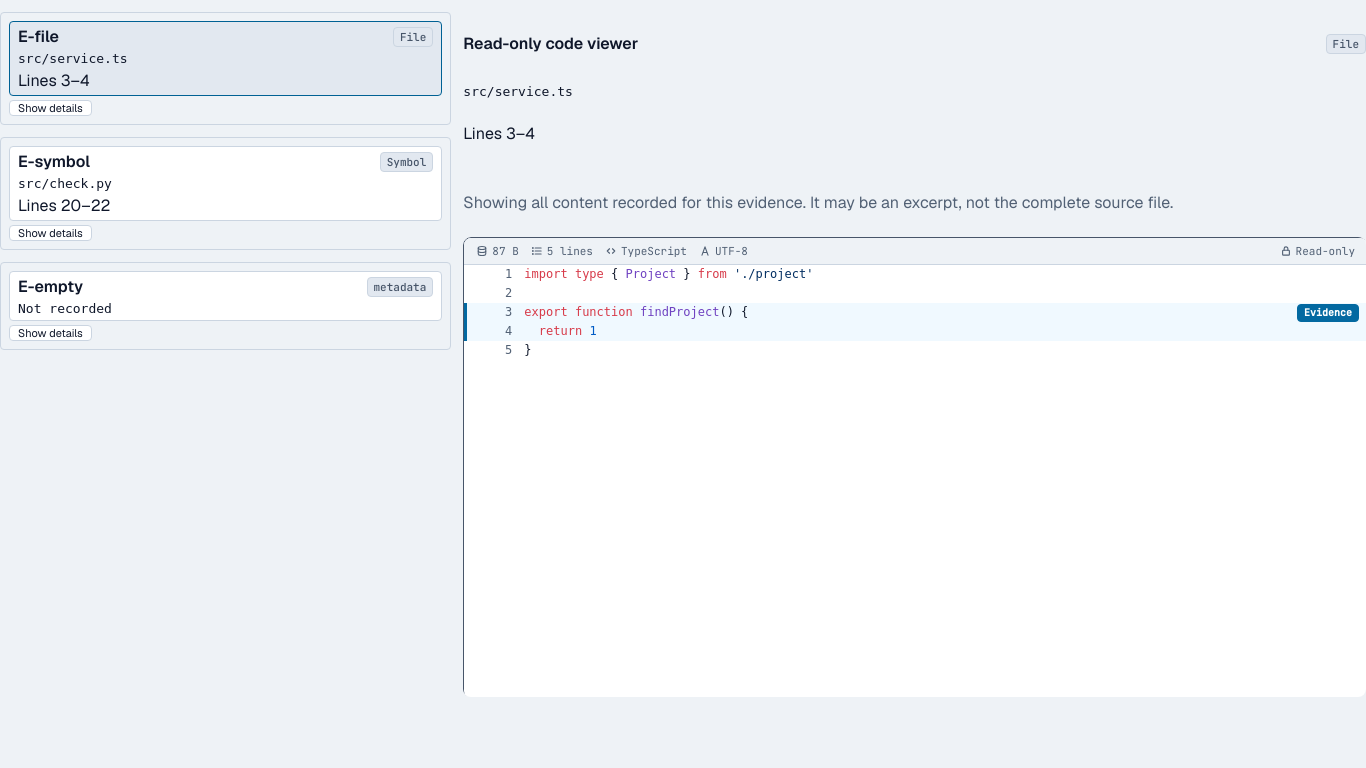
it: does not retain the previous evidence content when selecting a record without content
Click the button "E-empty metadata Not recorded" at (51, 286), box [9,271,442,321]
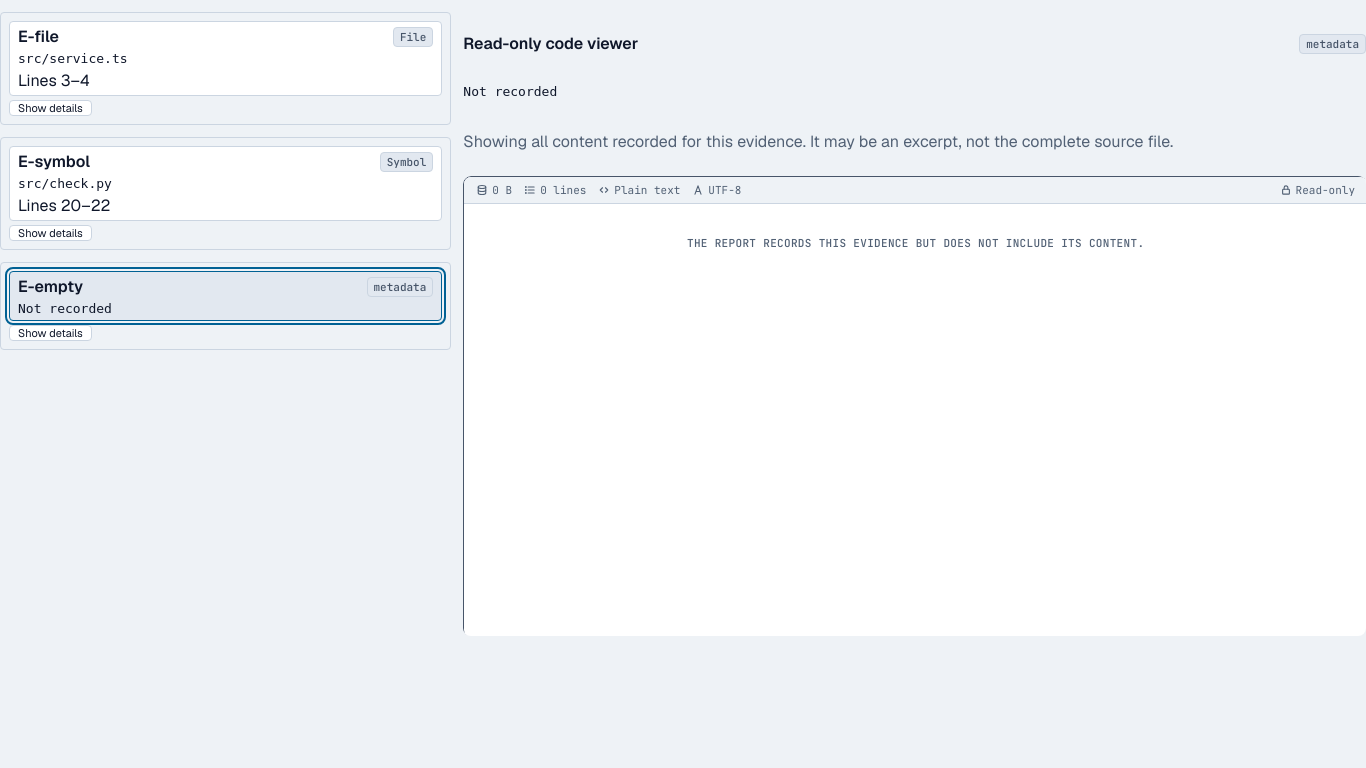
Check: the element with class "ui-code-viewer" is shown, box [463,176,1365,636]
Check: the element "Read-only code viewer" shows "does not include its content", box [687,236,1144,250]
Check: the element "Read-only code viewer" no longer shows "import type", box [463,12,1365,636]
